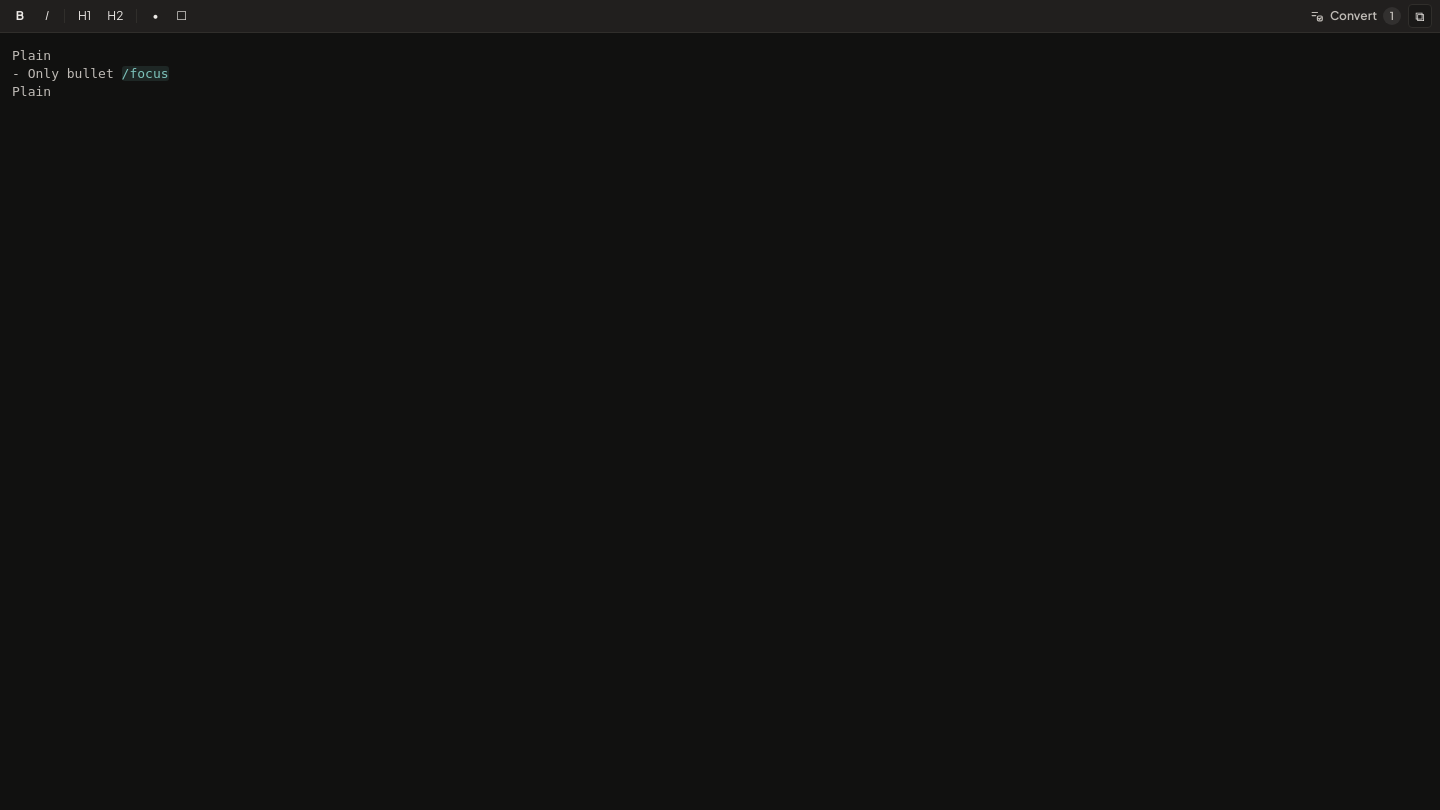
it: Alt+T: one line through the task popup › a Convert scope of exactly one line opens the popup too
The width and height of the screenshot is (1440, 810).
Step 1. Click the button with aria-label "Convert 1 bullet line to tasks" → (1354, 16), box 1303,4 -> 1406,28
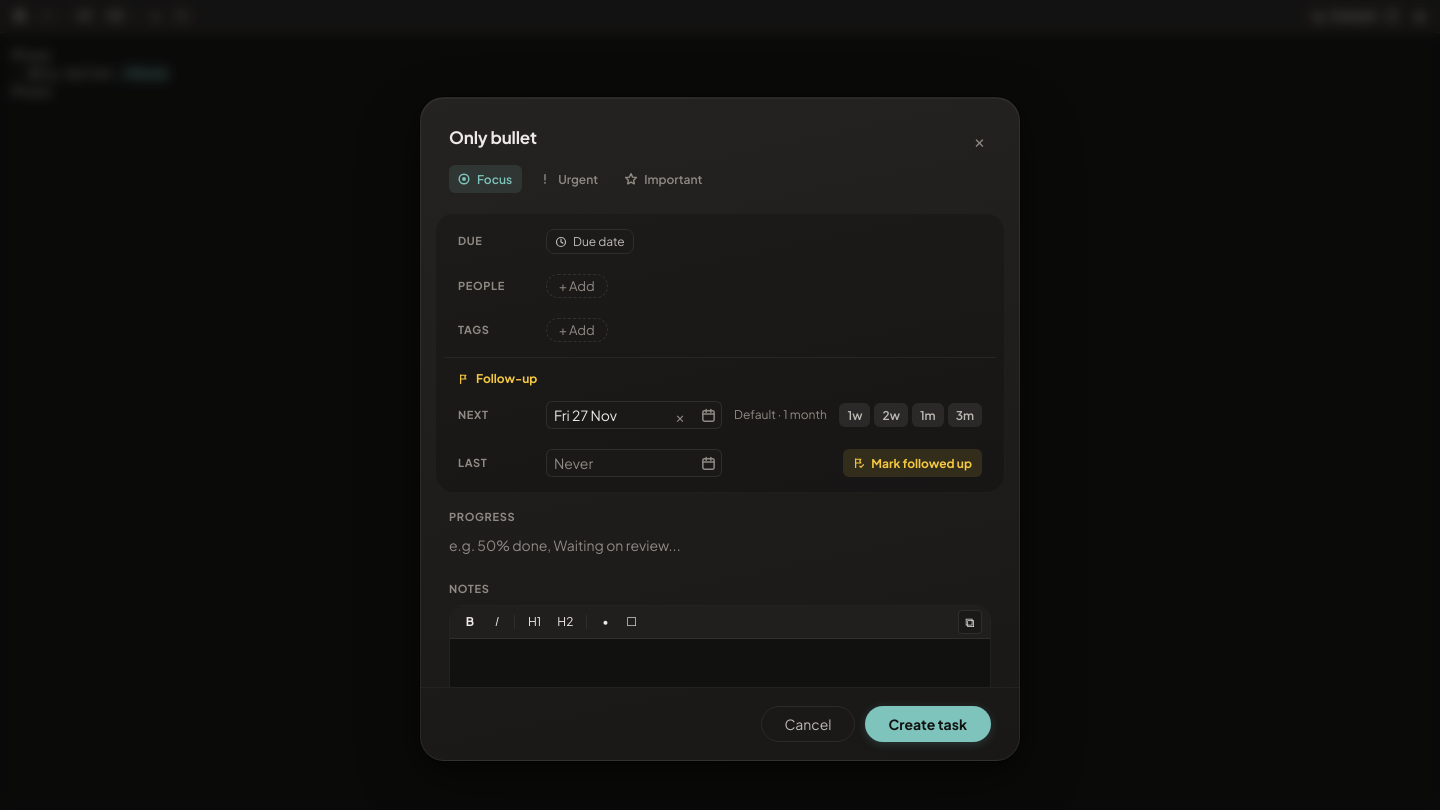
expect the 1st field showing "Only bullet" is shown: met, box 449,126 -> 956,150
